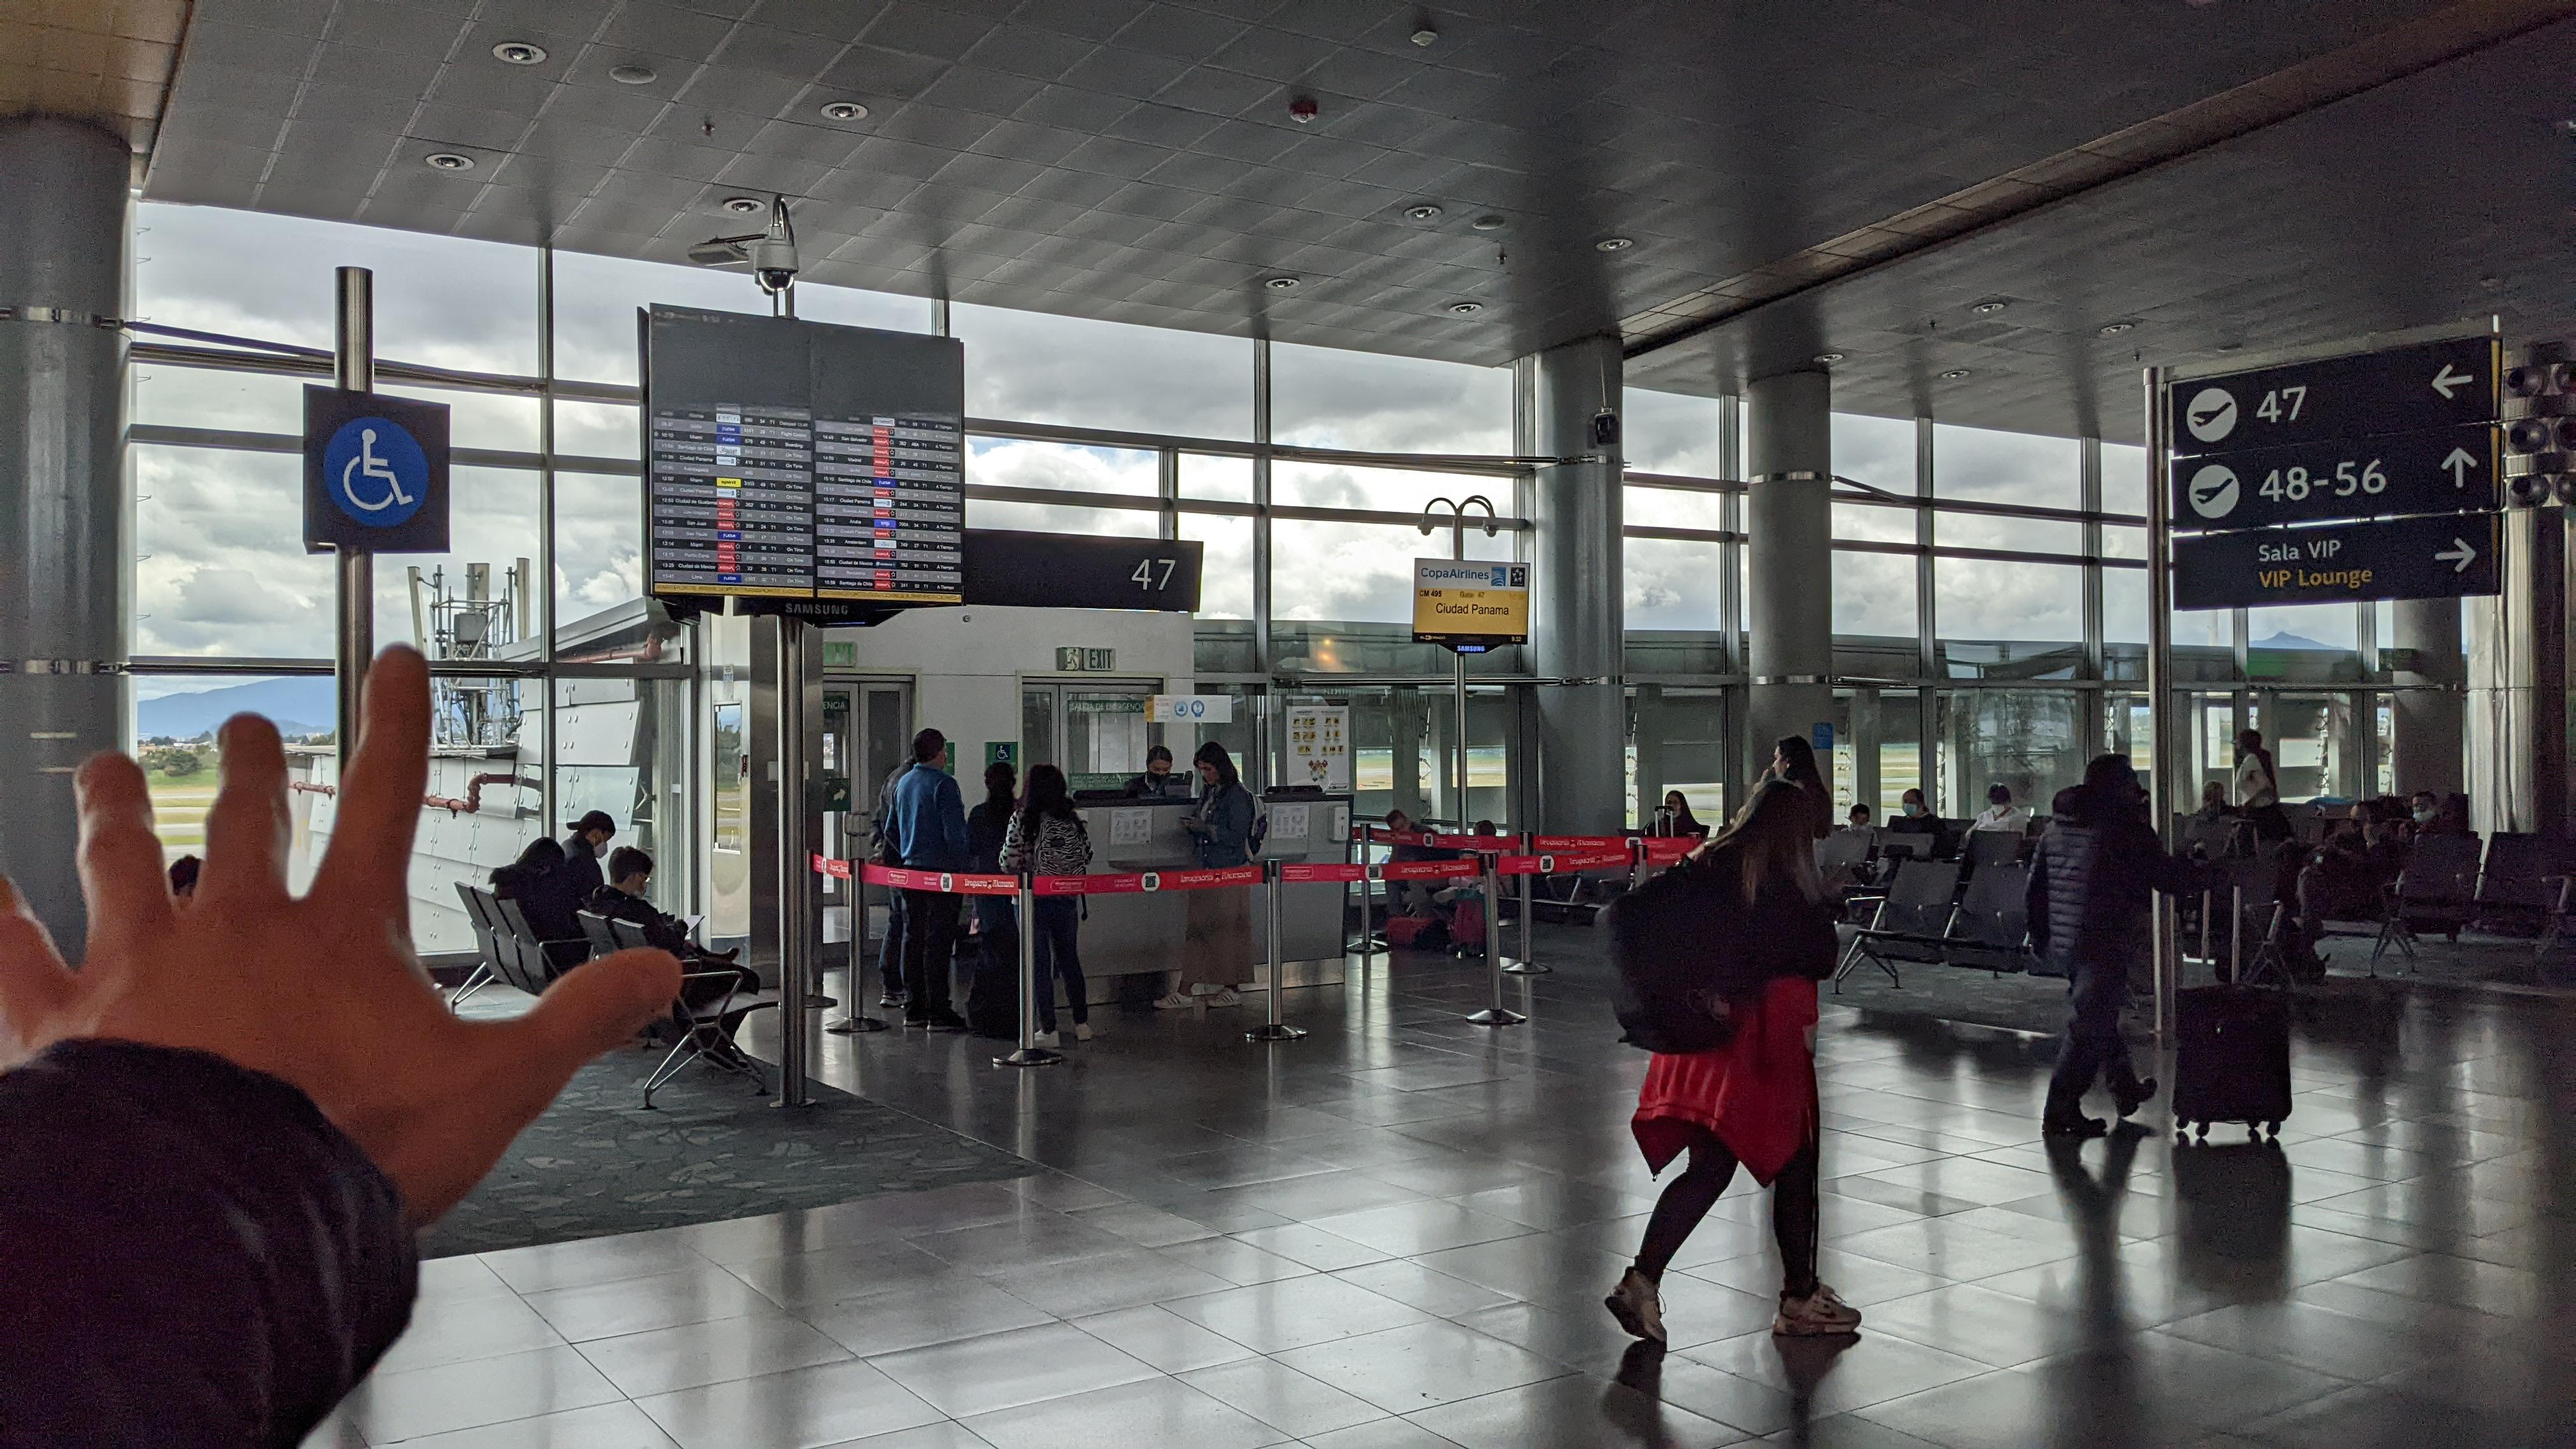airplane symbol: (2192, 398, 2233, 428), (2194, 476, 2235, 504)
handicapped symbol: (341, 426, 416, 511)
left arrow: (2429, 361, 2473, 402)
right arrow: (2431, 533, 2479, 575)
up arrow: (2438, 444, 2480, 488)
